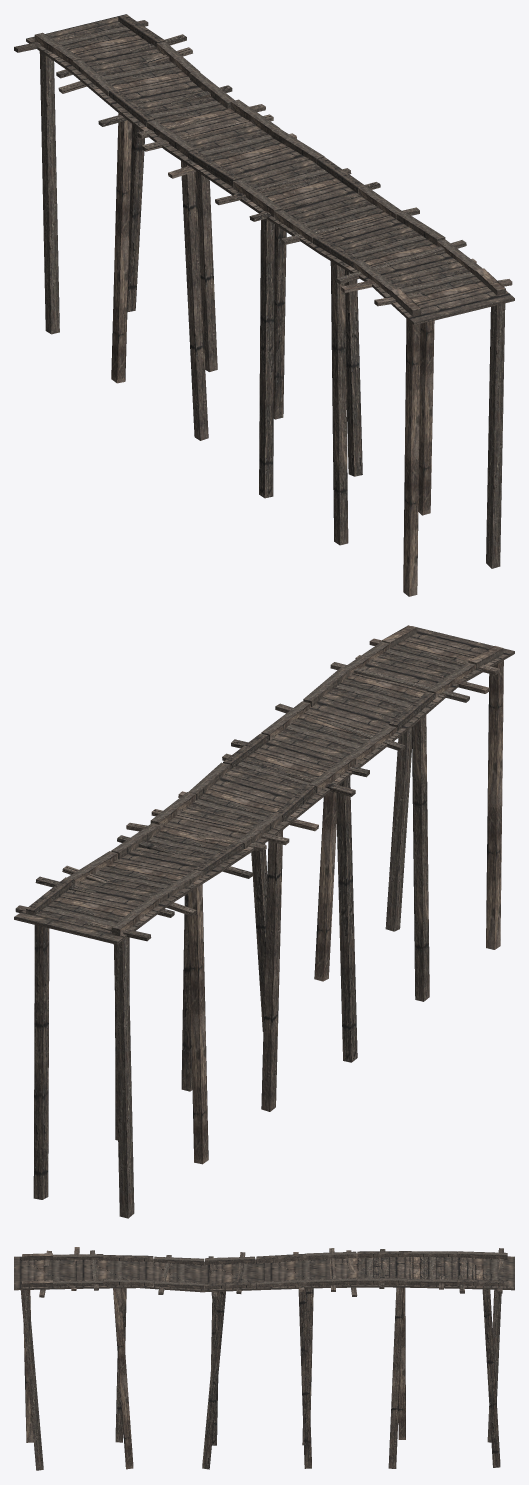
The model's file is brdg01.glb.
The picture shows the model from 3 angles, top to bottom: view 1: azimuth 30°, elevation 25°; view 2: azimuth 150°, elevation 25°; view 3: azimuth 270°, elevation 25°; orthographic projection. The views are drawn at different scales.
Parts seen in each view (by area): view 1: _brdg01; view 2: _brdg01; view 3: _brdg01.
Part boxes in pixels (x1,y1,x2,y2): _brdg01: [14, 14, 514, 596]; _brdg01: [14, 625, 514, 1218]; _brdg01: [14, 1247, 514, 1470].
Bounding box in the file's own units: 8.81 × 16.93 × 40.
1 material, 1 textured.
